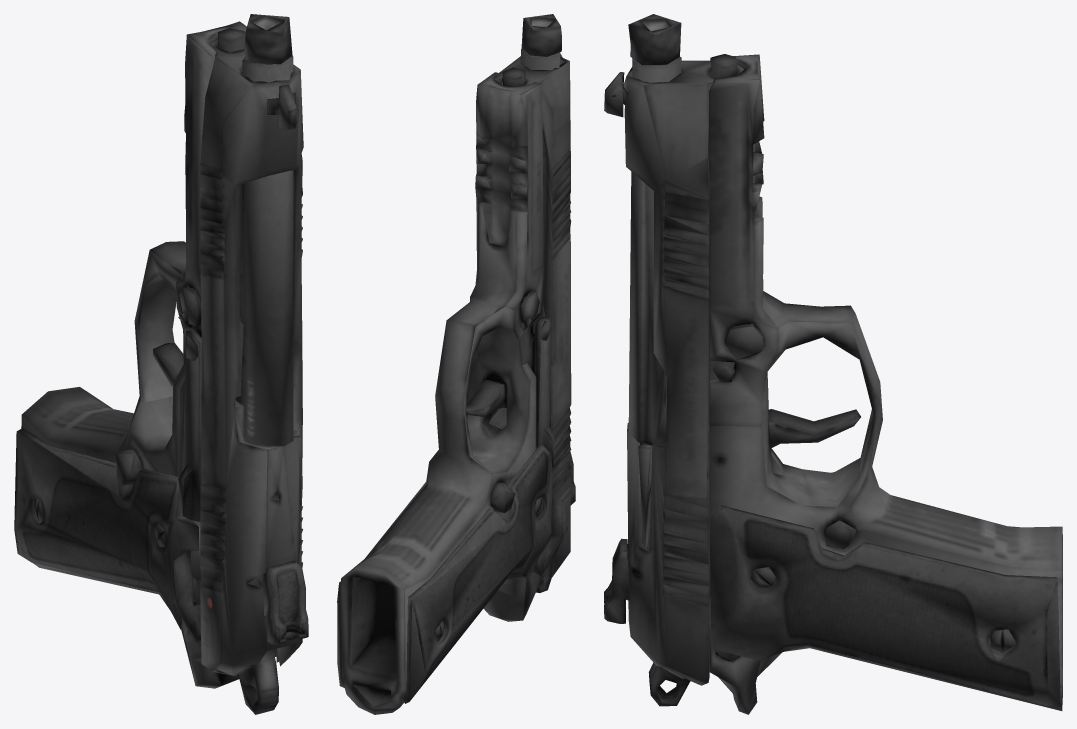
The model's file is Handgun03NoMag.fbx.
3 renders of one model, left to right at view 1: azimuth 30°, elevation 25°; view 2: azimuth 150°, elevation 25°; view 3: azimuth 270°, elevation 25°, orthographic. The views are drawn at different scales.
Visible parts, largest first — view 1: Handgun03; view 2: Handgun03; view 3: Handgun03.
Boxes of the visible parts, <box> form: Handgun03: <box>14,14,308,714</box>; Handgun03: <box>337,14,575,714</box>; Handgun03: <box>604,14,1062,714</box>.
Bounding box in the file's own units: 0.0307 × 0.1806 × 0.1096.
